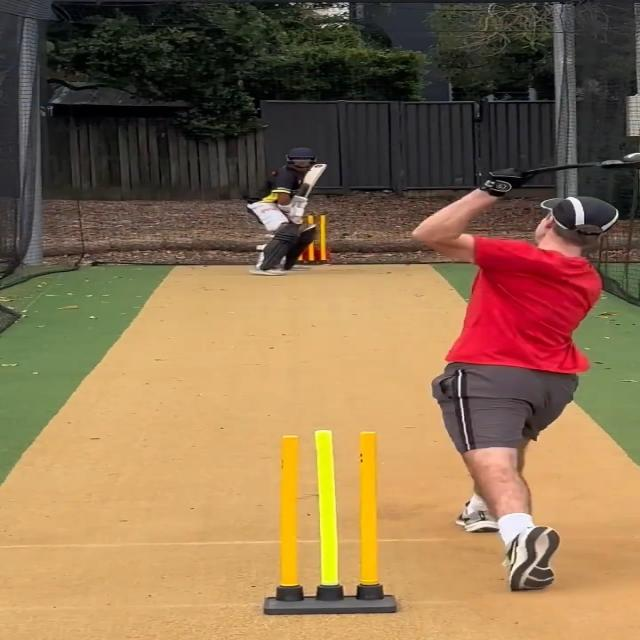stump: (263, 430, 400, 615)
